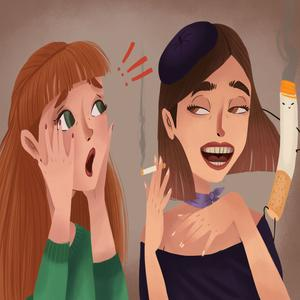cigarette: (136, 161, 168, 178)
